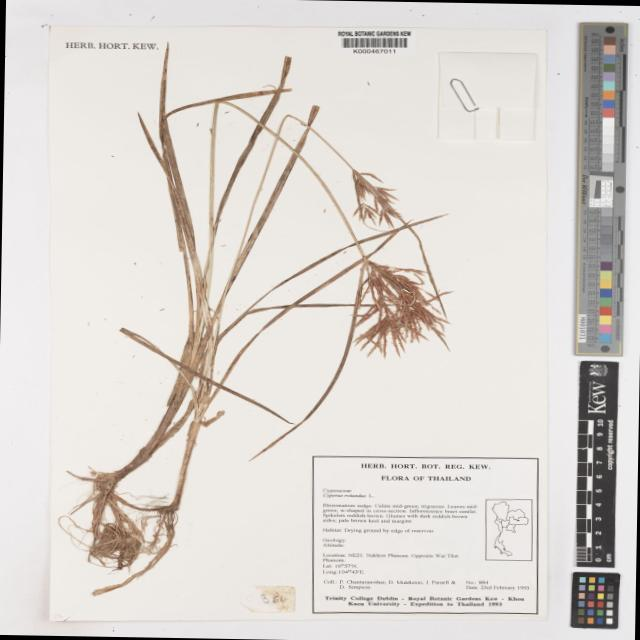cyperus: (341, 248, 462, 358), (334, 164, 406, 233)
